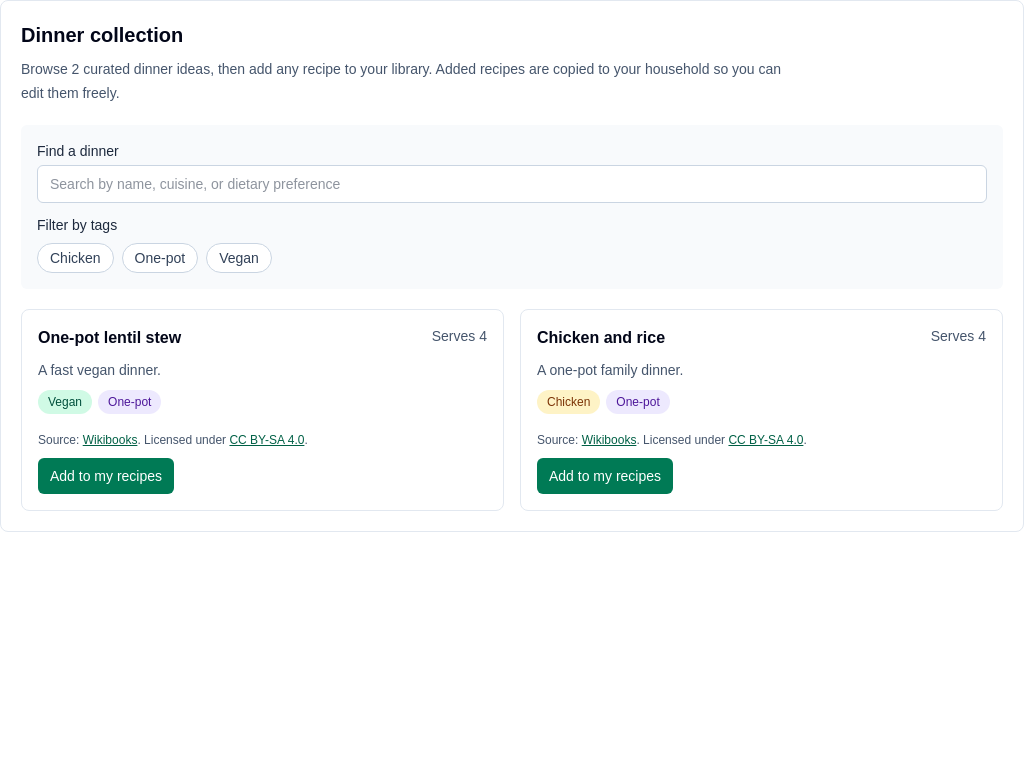
Scenario: CuratedDinnerCatalog › confirms a successful adoption and presents a retryable error without marking a failed copy as added
The image size is (1024, 768).
expect the list item "One-pot lentil stew" is shown: met, box [21,309,504,511]
expect the list item "Chicken and rice" is shown: met, box [520,309,1003,511]
What coordinates should you click on to do the following:
click the button "Add to my recipes" below "One-pot lentil stew"
I would click on:
 (106, 476)
Its box is [38,458,174,494].
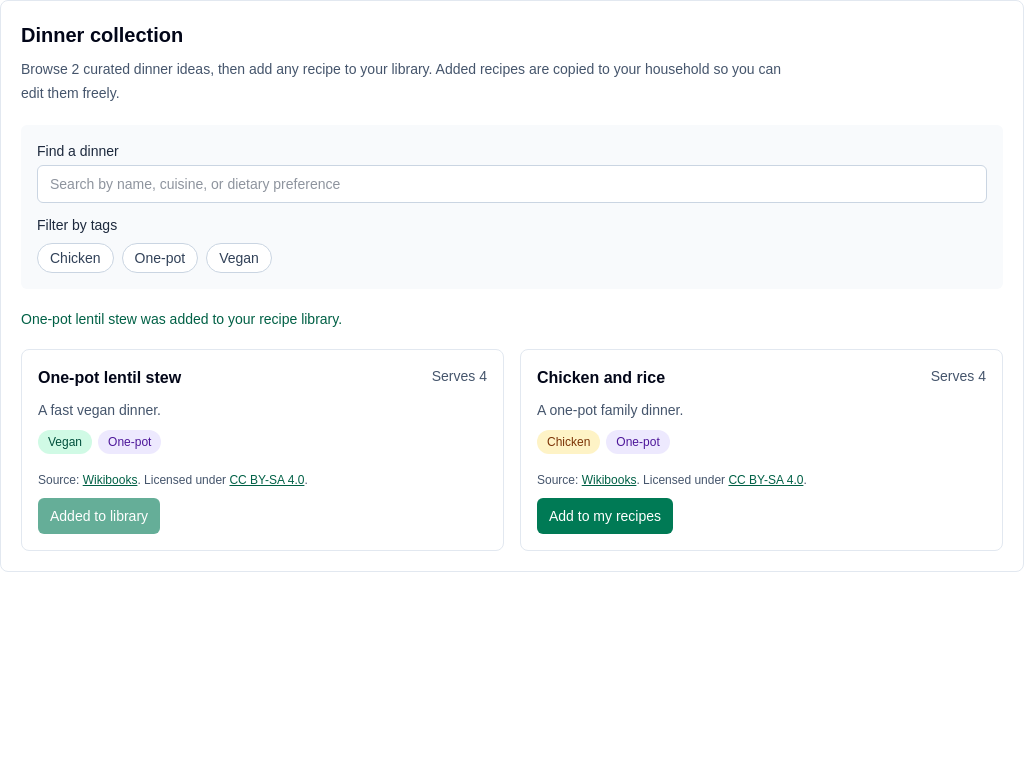
expect the message reads "One-pot lentil stew was added to your recipe library.": met, box [21,311,342,327]
expect the button "Added to library" is disabled: met, box [38,498,160,534]
What coordinates should you click on to do the following:
click the button "Add to my recipes"
I would click on:
 (605, 516)
Its box is [537,498,673,534].
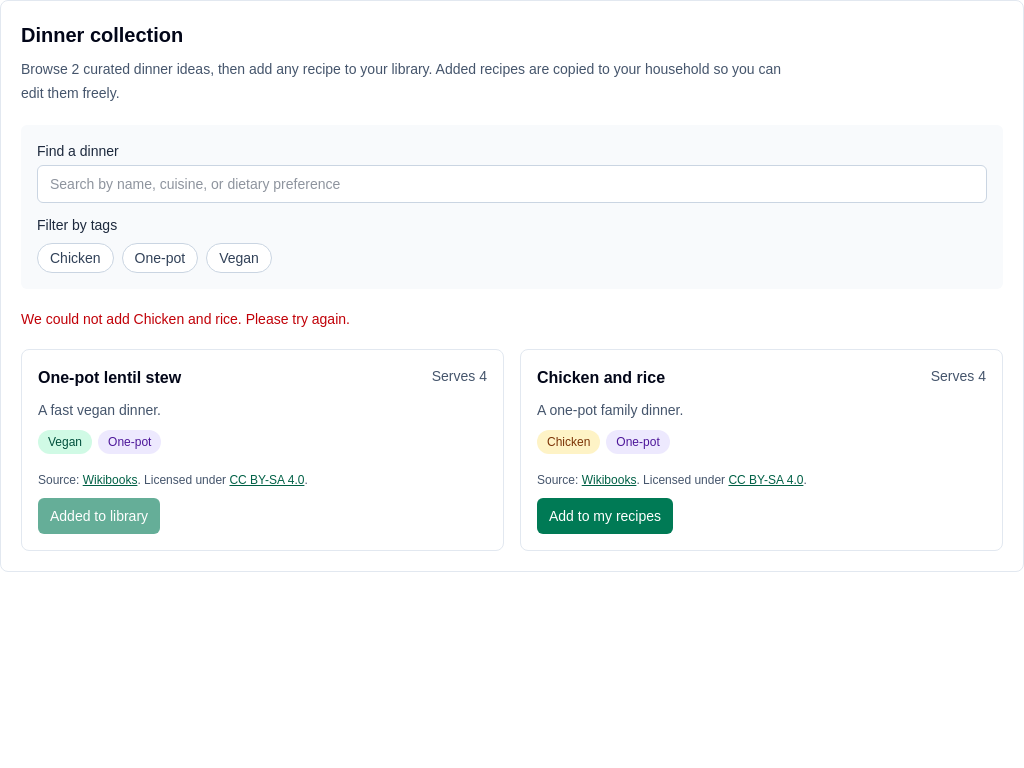
expect the number of list items is 2: met, box [21,349,504,551]; [520,349,1003,551]
expect the message reads "We could not add Chicken and rice. Please try again.": met, box [21,311,350,327]
